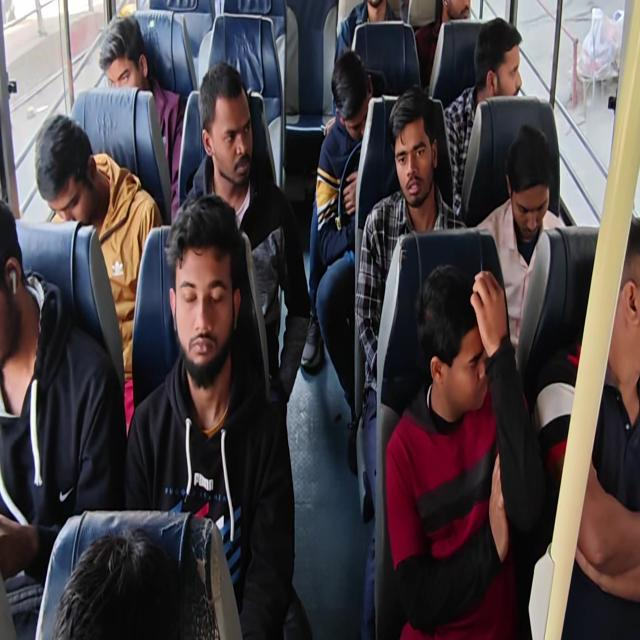person: (2, 2, 638, 638), (124, 192, 299, 638), (354, 86, 467, 637), (384, 262, 546, 638), (0, 198, 127, 638), (532, 212, 639, 639), (182, 61, 311, 412), (34, 113, 162, 438), (308, 49, 376, 473), (473, 123, 566, 363), (98, 13, 187, 223), (443, 17, 523, 217), (52, 526, 181, 639), (329, 1, 402, 128), (414, 0, 472, 89), (334, 0, 402, 63)
